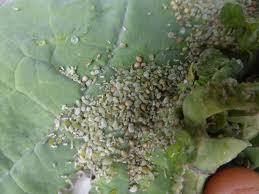insect: (99, 117, 110, 128), (128, 182, 138, 194), (126, 122, 136, 134), (120, 148, 131, 158), (125, 98, 135, 109), (84, 78, 94, 88), (81, 73, 90, 83), (140, 103, 149, 113), (76, 129, 86, 138), (105, 92, 113, 103), (75, 98, 83, 109), (132, 80, 141, 89), (112, 96, 121, 104), (163, 97, 171, 106), (134, 55, 144, 62), (156, 93, 163, 101), (133, 62, 139, 69)
